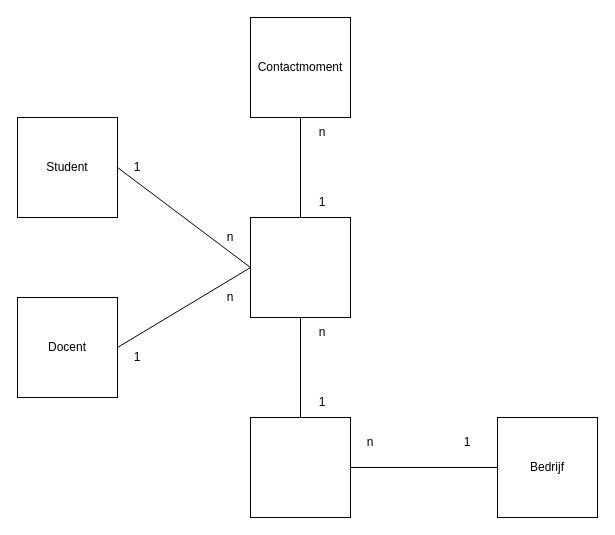
This 615x535 diagram has some shape labels left out. Here are the shapes that lost their labels. From the top down, the centre of each, then its label:
[300,267]: Stage
[300,467]: Begeleider
